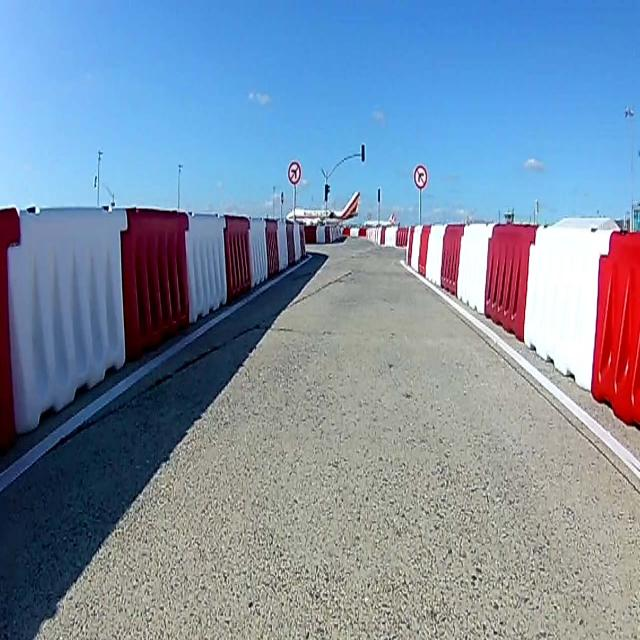sagadonulmez: (413, 166, 427, 190)
soladonulmez: (288, 161, 300, 183)
